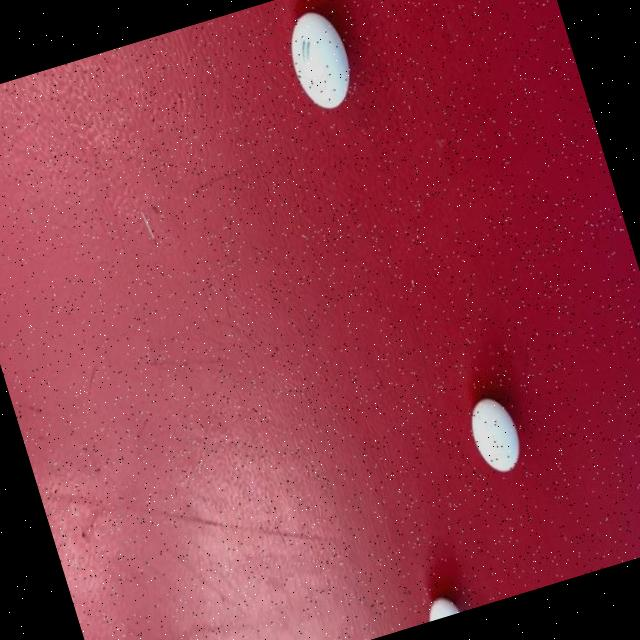ping-pong-ball: (264, 0, 369, 132), (453, 382, 536, 492), (408, 584, 468, 626)
